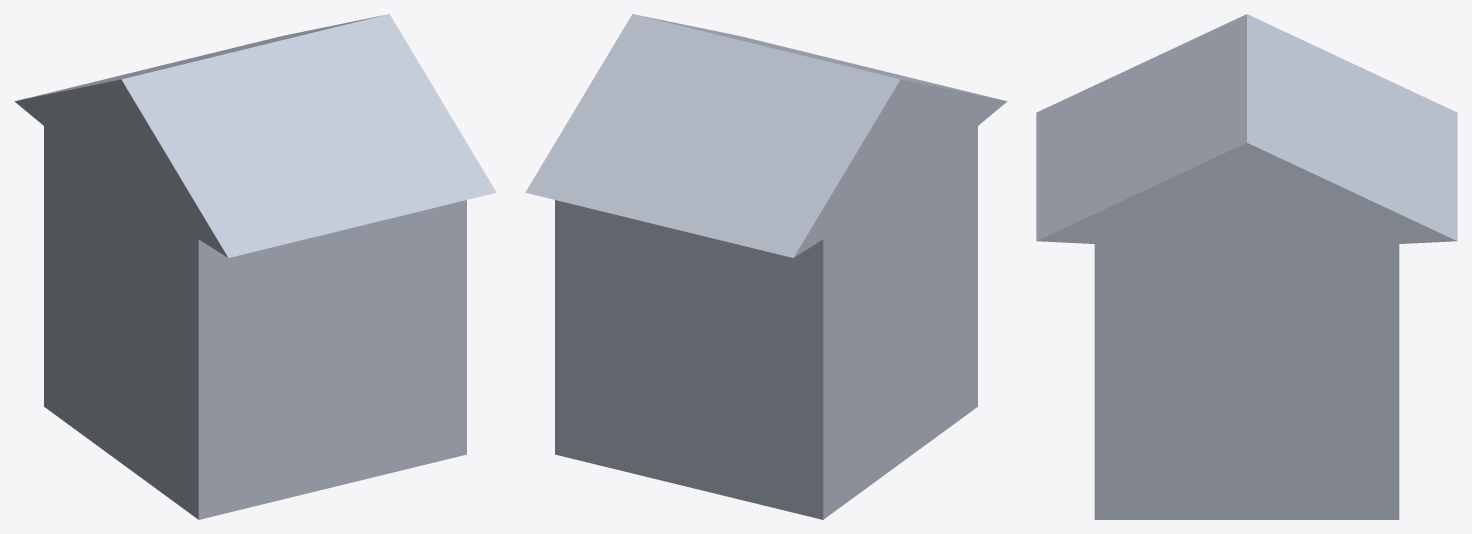
File: Beehiv.fbx
3 views of the same model, side by side, from view 1: azimuth 30°, elevation 25°; view 2: azimuth 150°, elevation 25°; view 3: azimuth 270°, elevation 25° (orthographic).
Visible parts, largest first — view 1: Body; view 2: Body; view 3: Body.
Part boxes in pixels (x1,y1,x2,y2): Body: [14, 14, 496, 519]; Body: [525, 14, 1007, 519]; Body: [1036, 14, 1457, 519].
Size of the model in its own units: 277 by 274 by 200.
